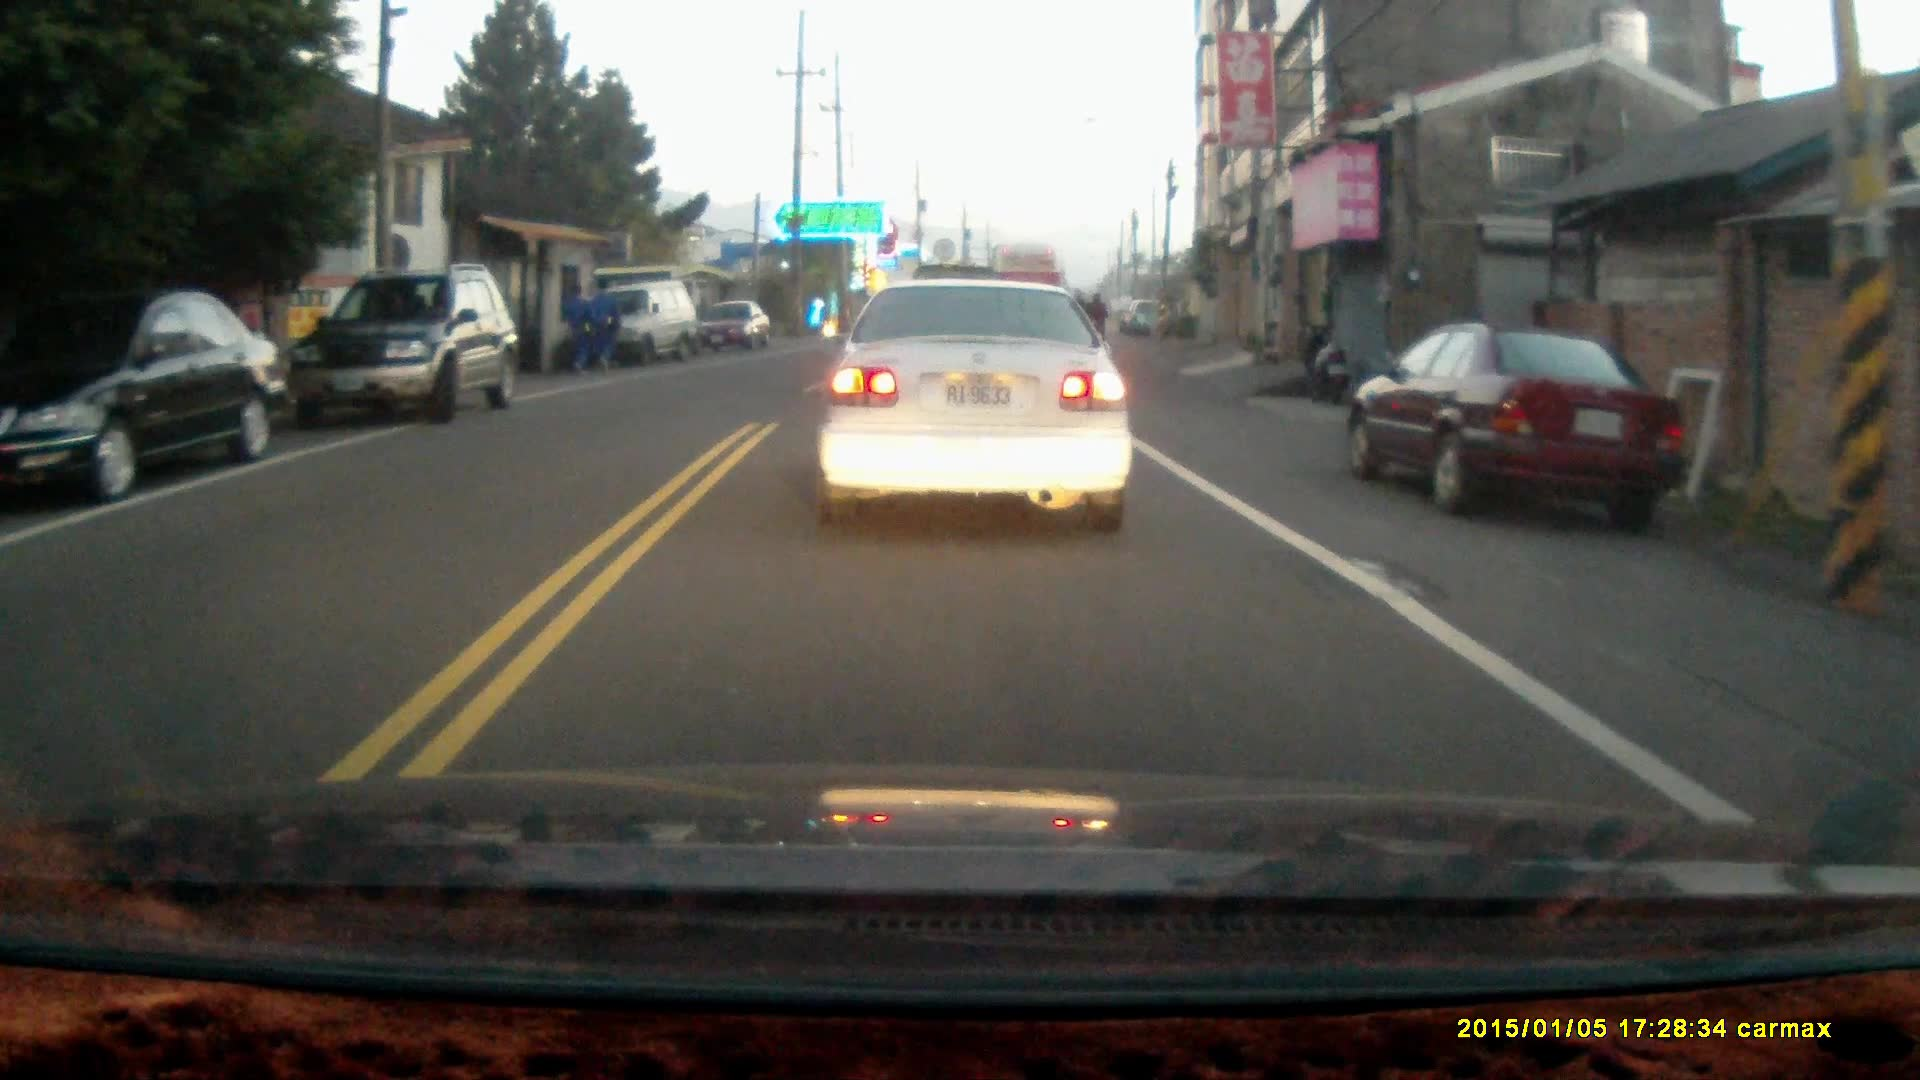pedestrian: (559, 283, 592, 383), (588, 277, 618, 378)
vehicle: (817, 278, 1129, 539), (1347, 328, 1688, 537), (2, 295, 288, 507), (271, 268, 523, 430), (591, 283, 713, 368), (689, 306, 771, 359)
